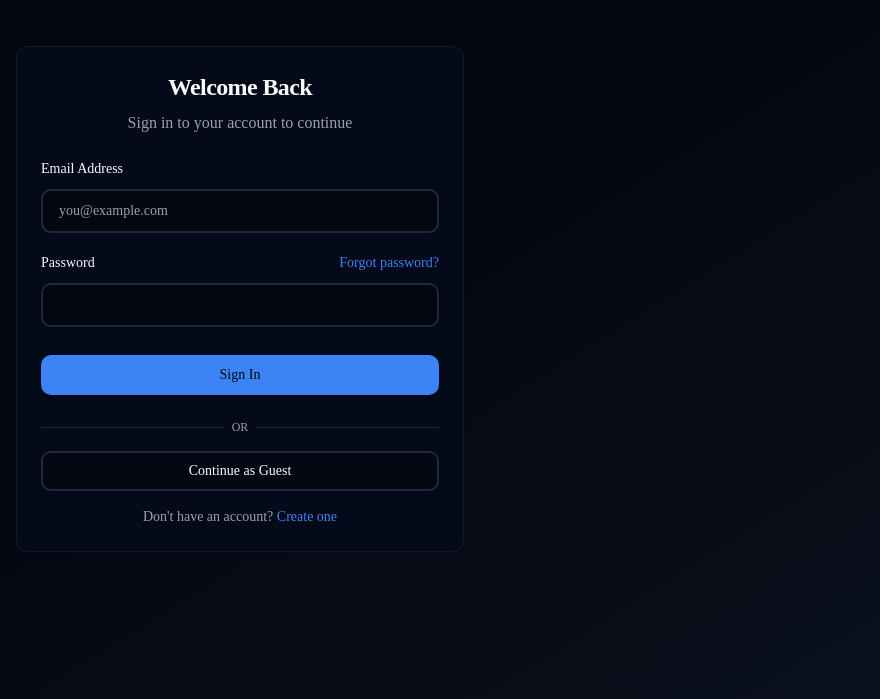
Test: LoginPage › shows an error message on failed submission
Type "fail@example.com" into the field labelled "Email Address" at x=240, y=211, box [41,189,439,233]
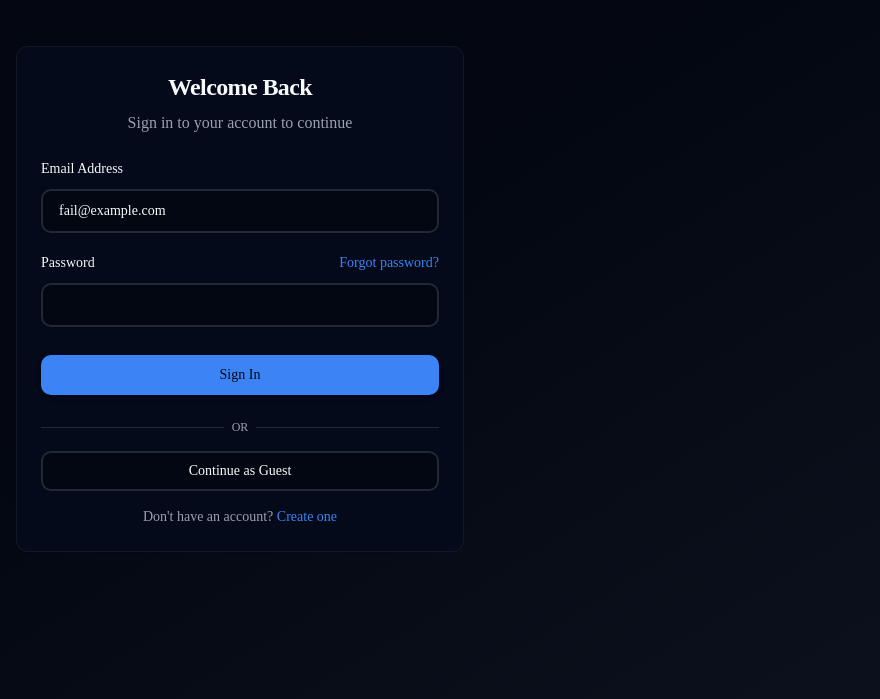
Type "wrongpassword" into the password field labelled "Password" at x=240, y=305, box [41,283,439,327]
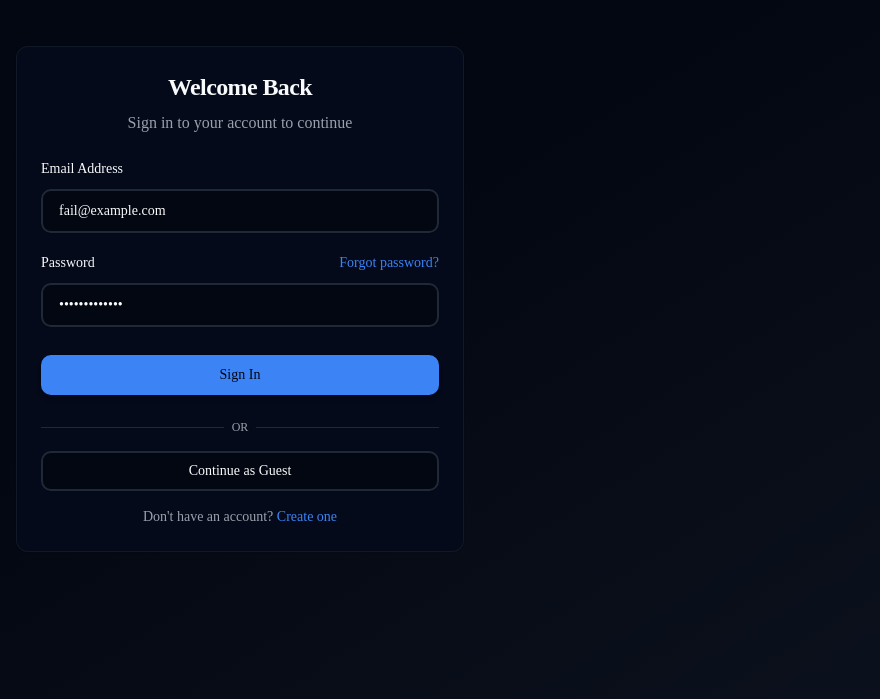
Click the button "Sign In" at x=240, y=375, box [41,355,439,395]
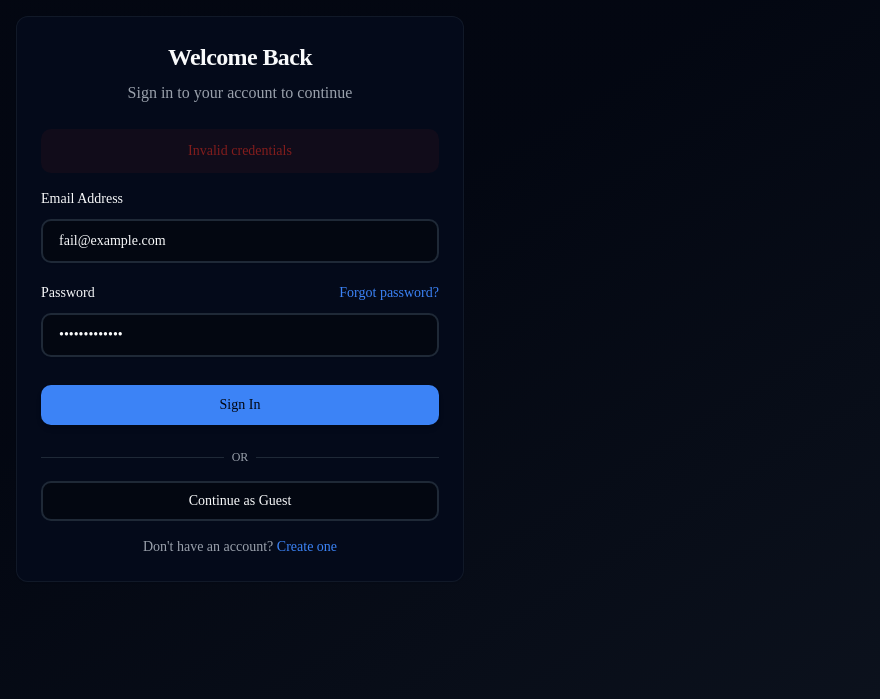
Now the text "Invalid credentials" is shown, box [41,129,439,173]
